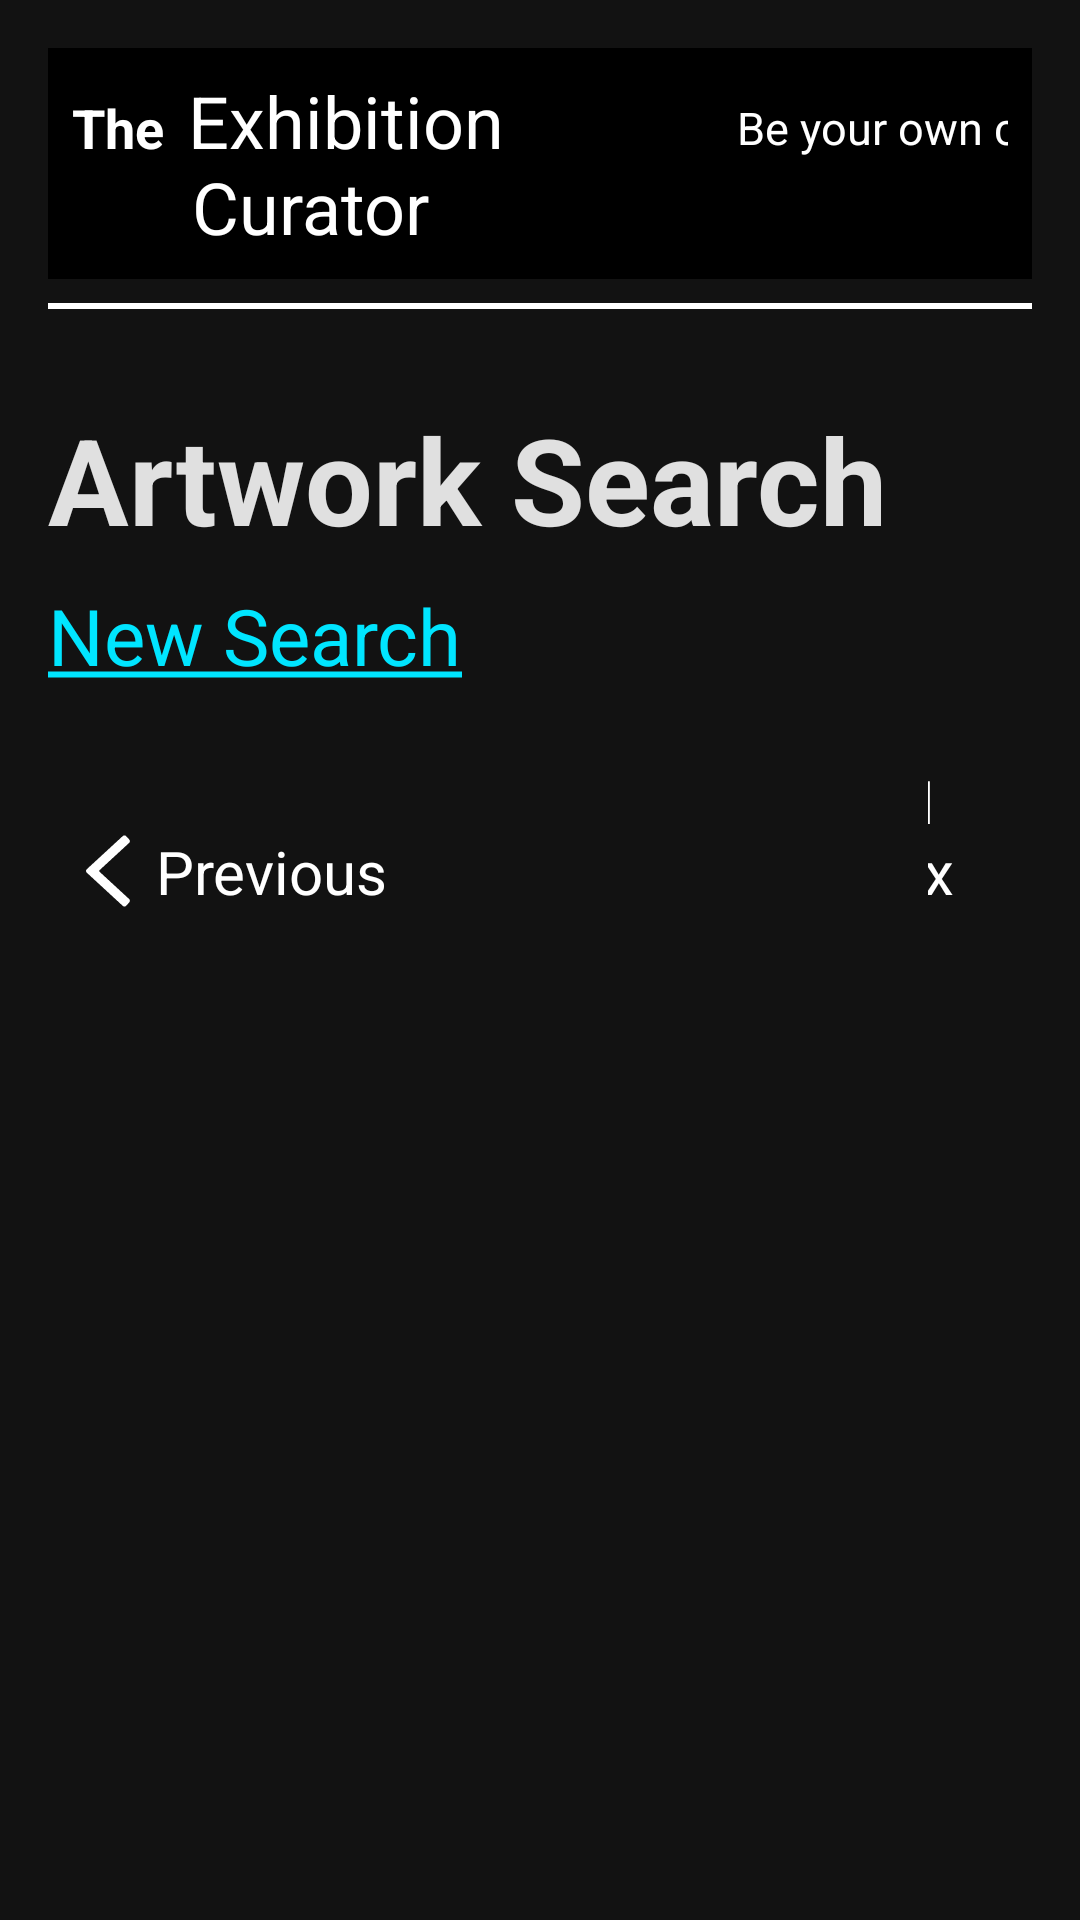

Where to tap for icons on this 1080×1920 app screen, as (x=x, y=y):
arrow left: (x=108, y=871)
